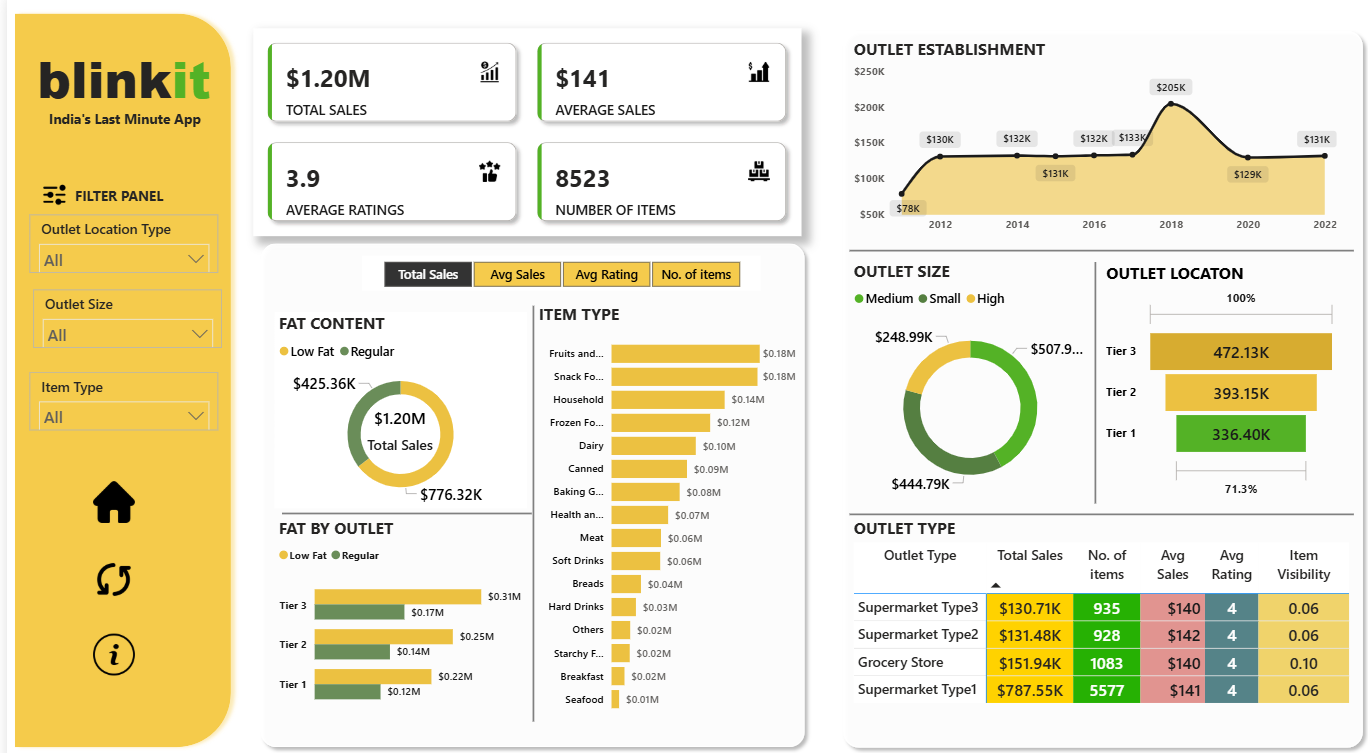

This screenshot's page, from the dashboard's own definition file:
{"tool":"powerbi","page":{"name":"Dashboard","canvas":[1600,900],"ordinal":0},"visuals":[{"type":"shape","box":[0,10,270,873.3],"z":0},{"type":"textbox","box":[30,48.6,232.9,95.7],"z":1000},{"type":"textbox","box":[44.3,125.7,205.7,37.1],"z":2000},{"type":"cardVisual","fields":{"Data":["BlinkIT Grocery Data.Total Sales","BlinkIT Grocery Data.Avg Sales","BlinkIT Grocery Data.Avg Rating","BlinkIT Grocery Data.Number of items"]},"box":[286.5,36.2,639.4,242.8],"z":3000},{"type":"shape","box":[286.7,278.3,651.7,605],"z":4000},{"type":"donutChart","title":"FAT CONTENT","fields":{"Y":["BlinkIT Grocery Data.Total Sales"],"Category":["BlinkIT Grocery Data.Item Fat Content"]},"box":[311.7,367.3,294.3,228.6],"z":5000},{"type":"slicer","fields":{"Values":["Metrics.Metrics"]},"box":[413.2,301.6,464.5,40.7],"z":6000},{"type":"card","fields":{"Values":["BlinkIT Grocery Data.Total Sales"]},"box":[406.7,456.7,103.3,95],"z":7000},{"type":"clusteredBarChart","title":"FAT BY OUTLET","fields":{"Y":["BlinkIT Grocery Data.Total Sales"],"Category":["BlinkIT Grocery Data.Outlet Location Type"],"Series":["BlinkIT Grocery Data.Item Fat Content"]},"box":[311.7,606.7,295,238.3],"z":8000},{"type":"shape","box":[320,580,291.4,44.3],"z":9000},{"type":"shape","box":[595,360,38.3,485],"z":10000},{"type":"barChart","title":"ITEM TYPE","fields":{"Y":["BlinkIT Grocery Data.Total Sales"],"Category":["BlinkIT Grocery Data.Item Type"]},"box":[615,356.7,310,488.3],"z":11000},{"type":"shape","box":[966.7,30,623.3,853.3],"z":12000},{"type":"lineChart","title":"OUTLET ESTABLISHMENT","fields":{"Category":["BlinkIT Grocery Data.Outlet Establishment Year"],"Y":["BlinkIT Grocery Data.Total Sales"]},"box":[981.7,48.3,573.3,235],"z":13000},{"type":"shape","box":[981.7,279,588.1,34.7],"z":14000},{"type":"donutChart","title":"OUTLET SIZE","fields":{"Y":["BlinkIT Grocery Data.Total Sales"],"Category":["BlinkIT Grocery Data.Outlet Size"]},"box":[981.7,306.1,282,289.5],"z":15000},{"type":"shape","box":[1248.3,308.3,40,281.7],"z":16000},{"type":"funnel","title":"OUTLET LOCATON","fields":{"Y":["Sum(BlinkIT Grocery Data.Sales)"],"Category":["BlinkIT Grocery Data.Outlet Location Type"]},"box":[1276.7,308.3,278.3,280],"z":17000},{"type":"shape","box":[981.7,585.1,588.1,34.7],"z":18000},{"type":"pivotTable","title":"OUTLET TYPE","fields":{"Rows":["BlinkIT Grocery Data.Outlet Type"],"Values":["BlinkIT Grocery Data.Total Sales","BlinkIT Grocery Data.No. of items","BlinkIT Grocery Data.Avg Sales","BlinkIT Grocery Data.Avg Rating","Avg(BlinkIT Grocery Data.Item Visibility)"]},"box":[981.7,606.7,588.3,238.3],"z":19000},{"type":"slicer","fields":{"Values":["BlinkIT Grocery Data.Outlet Location Type"]},"box":[26.7,253.3,220,68.3],"z":20000},{"type":"slicer","fields":{"Values":["BlinkIT Grocery Data.Outlet Size"]},"box":[30,341.7,220,68.3],"z":21000},{"type":"slicer","fields":{"Values":["BlinkIT Grocery Data.Item Type"]},"box":[26.7,436.7,220,68.3],"z":22000},{"type":"textbox","box":[74.2,215.7,123.7,37.7],"z":23000},{"type":"image","box":[95,559.5,60.3,58.8],"z":24000},{"type":"image","box":[36.5,206.6,37.7,46.7],"z":25000},{"type":"image","box":[95,650,60.3,58.8],"z":26000},{"type":"image","box":[95,737.4,60.3,58.8],"z":28000}]}

Visuals, with their boxes in screenshot pixels (x1, y1, x2, y2), scaled from the page's 1600x900 canvas onto the 1368x753 screenshot:
shape: bbox(0, 8, 231, 739)
textbox: bbox(26, 41, 225, 121)
textbox: bbox(38, 105, 214, 136)
cardVisual - BlinkIT Grocery Data.Total Sales x BlinkIT Grocery Data.Avg Sales: bbox(245, 30, 792, 233)
shape: bbox(245, 233, 802, 739)
"FAT CONTENT" donutChart: bbox(267, 307, 518, 499)
slicer - Metrics.Metrics: bbox(353, 252, 750, 286)
card - BlinkIT Grocery Data.Total Sales: bbox(348, 382, 436, 462)
"FAT BY OUTLET" clusteredBarChart: bbox(267, 508, 519, 707)
shape: bbox(274, 485, 523, 522)
shape: bbox(509, 301, 541, 707)
"ITEM TYPE" barChart: bbox(526, 298, 791, 707)
shape: bbox(827, 25, 1359, 739)
"OUTLET ESTABLISHMENT" lineChart: bbox(839, 40, 1330, 237)
shape: bbox(839, 233, 1342, 262)
"OUTLET SIZE" donutChart: bbox(839, 256, 1080, 498)
shape: bbox(1067, 258, 1101, 494)
"OUTLET LOCATON" funnel: bbox(1092, 258, 1330, 492)
shape: bbox(839, 490, 1342, 519)
"OUTLET TYPE" pivotTable: bbox(839, 508, 1342, 707)
slicer - BlinkIT Grocery Data.Outlet Location Type: bbox(23, 212, 211, 269)
slicer - BlinkIT Grocery Data.Outlet Size: bbox(26, 286, 214, 343)
slicer - BlinkIT Grocery Data.Item Type: bbox(23, 365, 211, 423)
textbox: bbox(63, 180, 169, 212)
image: bbox(81, 468, 133, 517)
image: bbox(31, 173, 63, 212)
image: bbox(81, 544, 133, 593)
image: bbox(81, 617, 133, 666)
